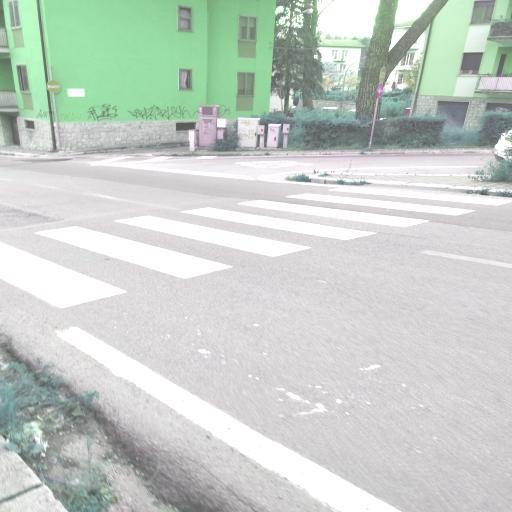crosswalk: (108, 205, 386, 263)
